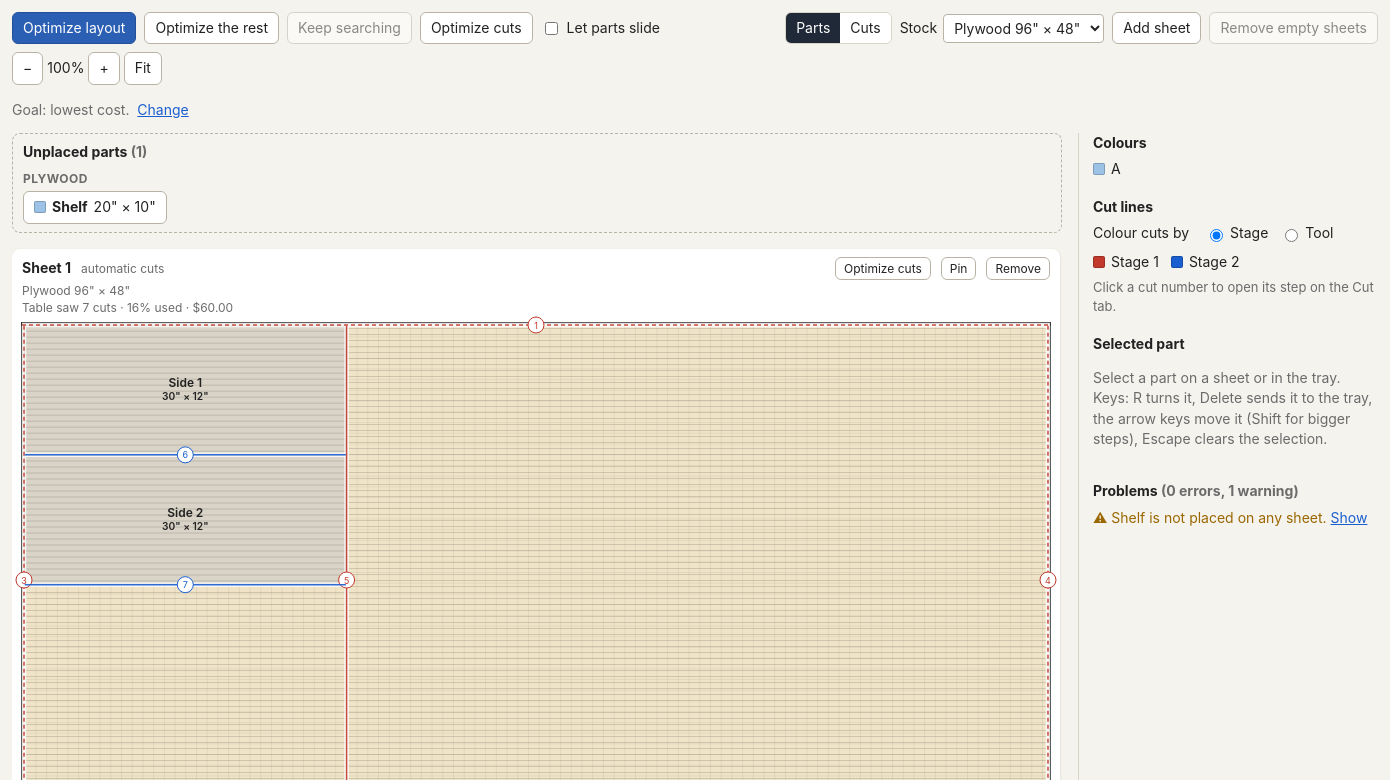
LayoutTab › does not use a result that arrives in the same update as an edit
This screenshot has width=1390, height=780.
Click the button "Optimize layout" at coordinates (74, 28), box [12,12,136,44]
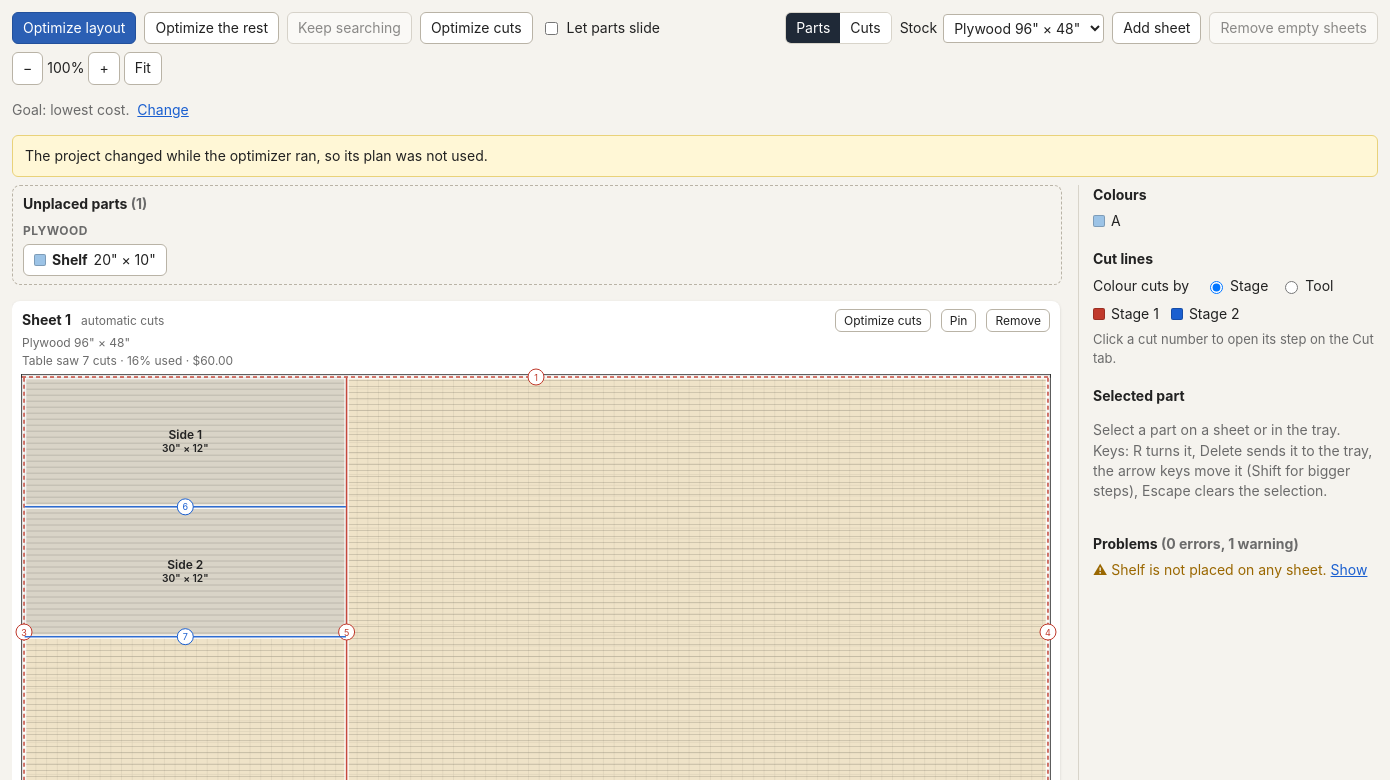
Result: the message shows "The project changed while the optimizer ran" at [25,147,488,164]
